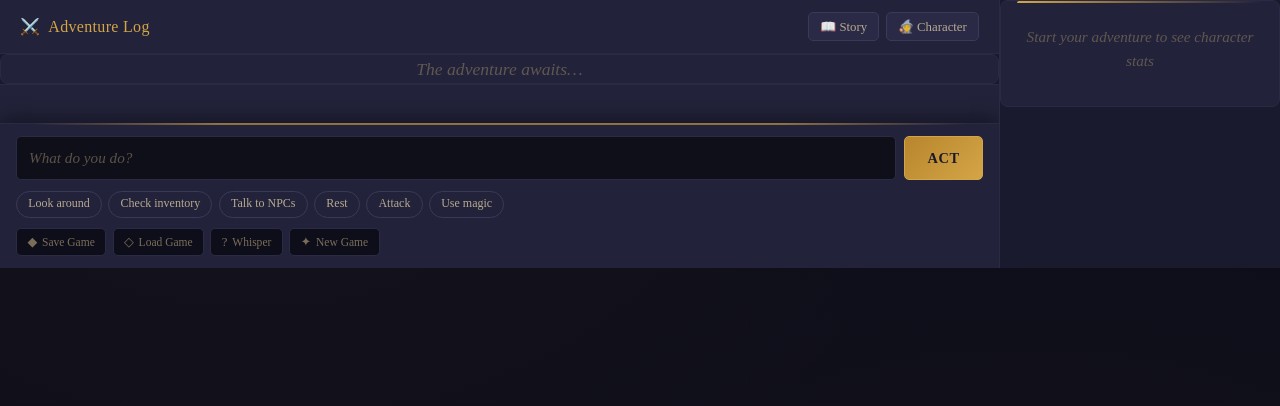
Scenario: game flow — submitting input › renders narrative content from SSE events after user submit
# Submit a turn to trigger the SSE connection
Type "Look around" into the field with placeholder "What do you do?" at x=456, y=158, box [16, 136, 896, 180]
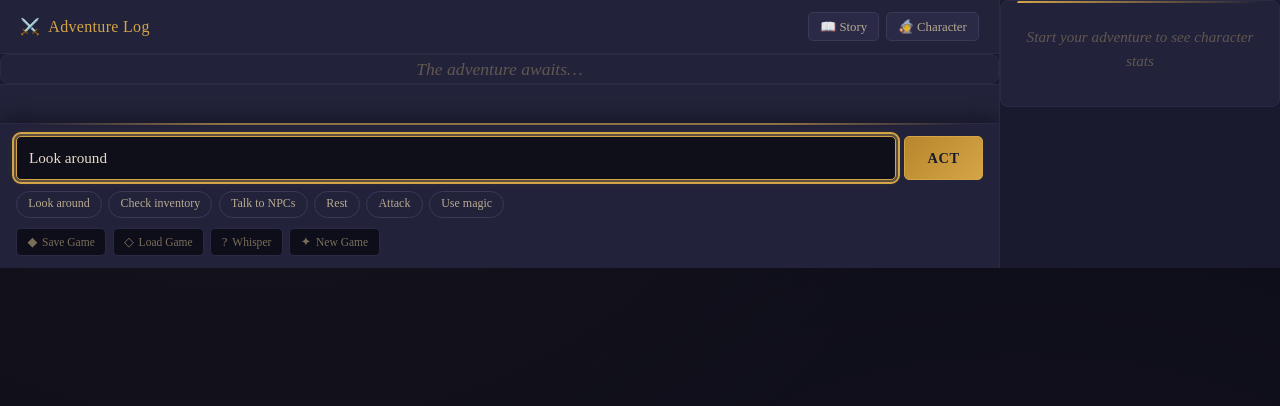
Click the button with aria-label "submit action" at x=944, y=158, box [904, 136, 983, 180]
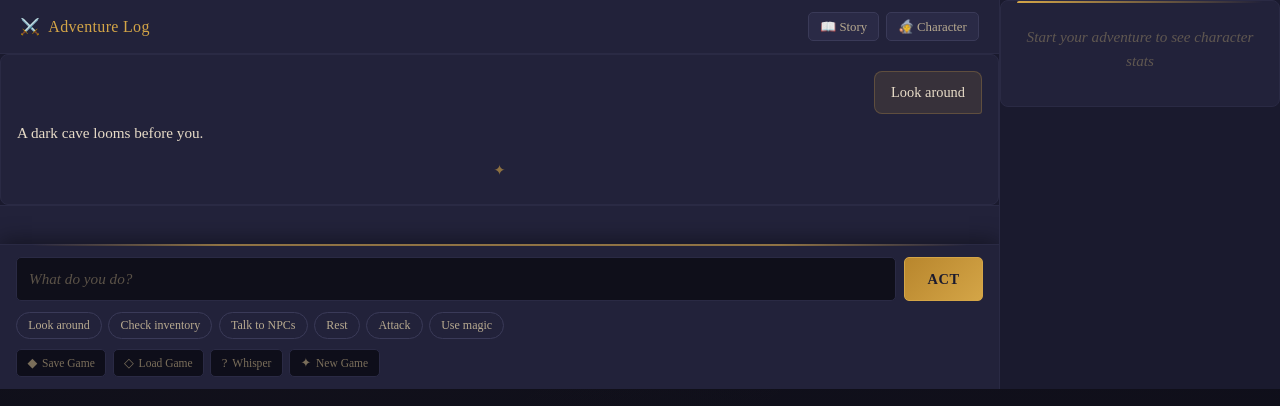
Check: the text "A dark cave looms before you." is shown, box [17, 124, 203, 141]
